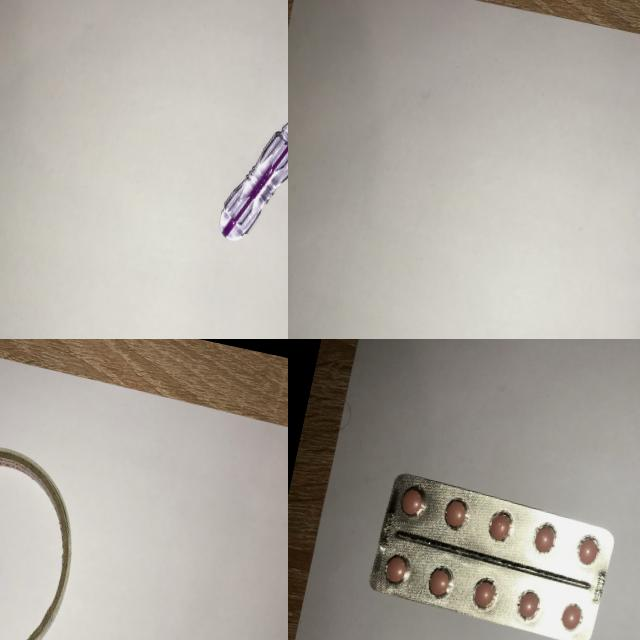scotch: (0, 426, 98, 640)
screwdriver: (209, 25, 288, 264)
tablets: (355, 466, 628, 640)
